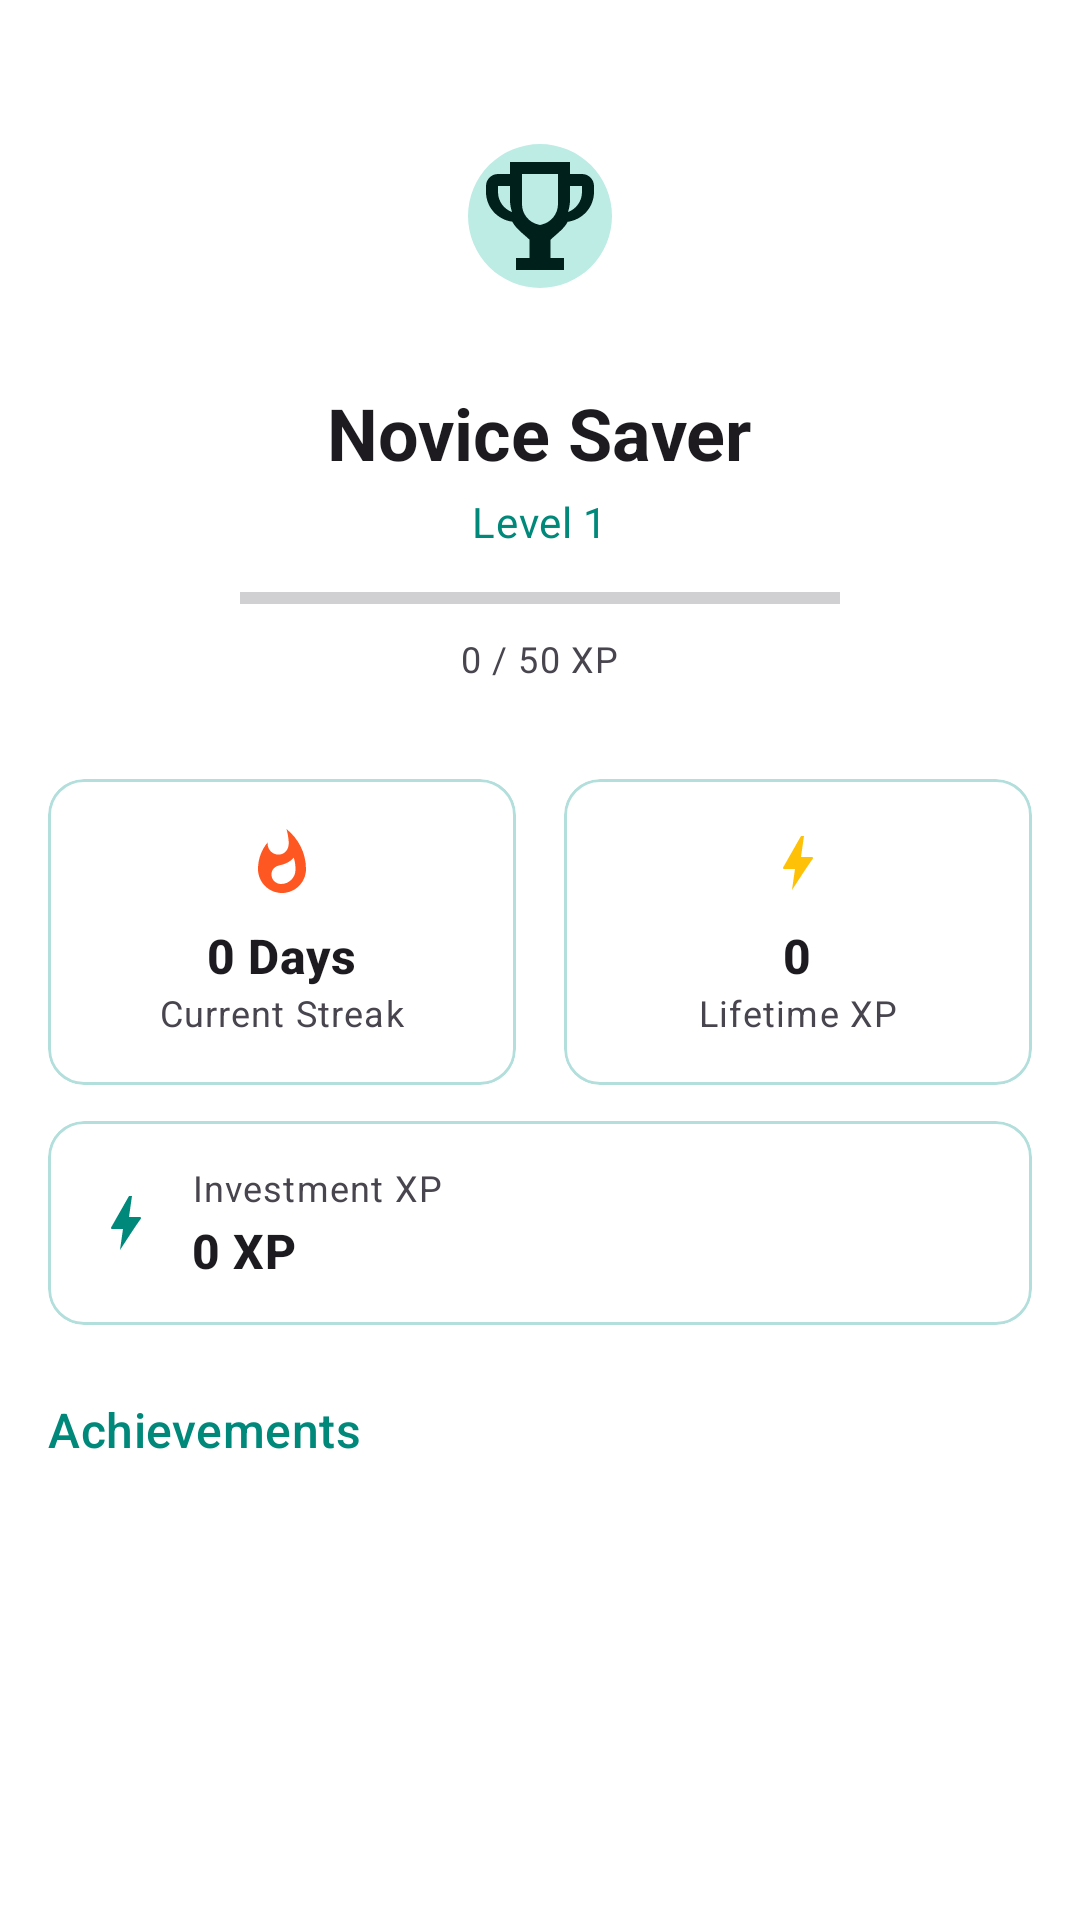

Named icons in this screenshot (1080×1920) and their centers, (x,y):
bolt: (798,863), (126,1223)
fire: (282,861)
trophy: (540,216)
